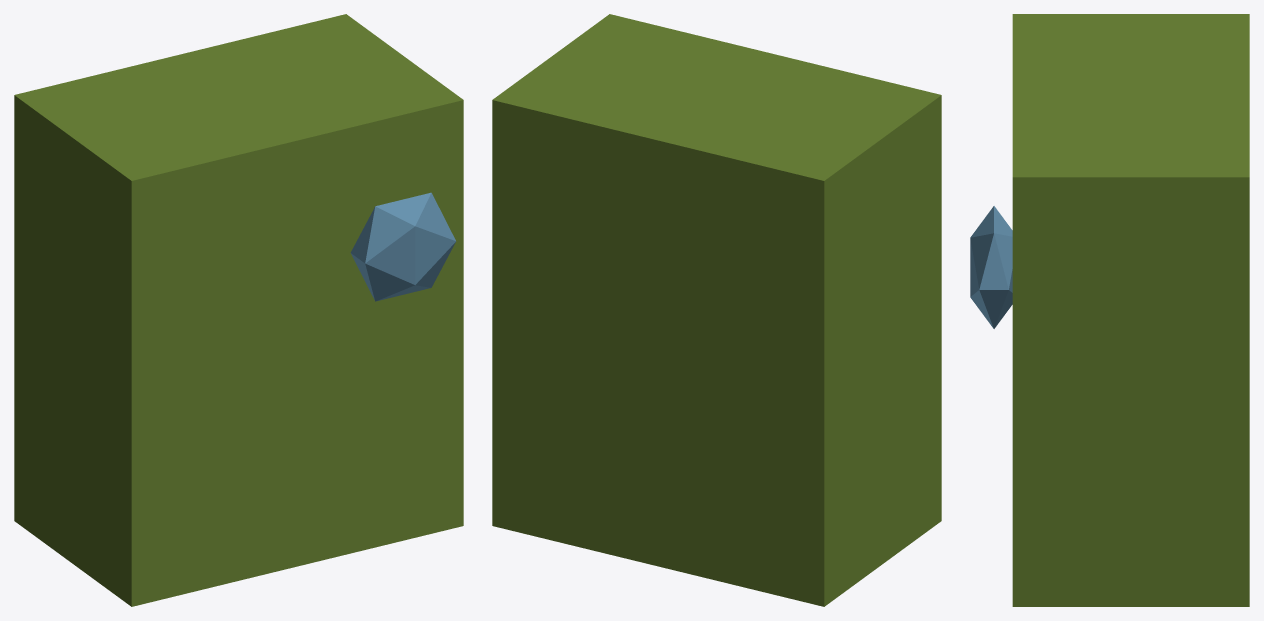
Rendered from body.glb.
The picture shows the model from 3 angles, left to right: view 1: azimuth 30°, elevation 25°; view 2: azimuth 150°, elevation 25°; view 3: azimuth 270°, elevation 25°; orthographic projection.
Visible parts, largest first — view 1: chest, chest_emblem; view 2: chest; view 3: chest, chest_emblem.
Part boxes in pixels (box(x1,y1,x2,y2)): chest: box(14, 14, 463, 606); chest_emblem: box(350, 192, 456, 301); chest: box(492, 14, 941, 606); chest: box(1012, 14, 1249, 606); chest_emblem: box(970, 206, 1012, 328).
Size of the model in its own units: 0.62 by 0.76 by 0.4483.
